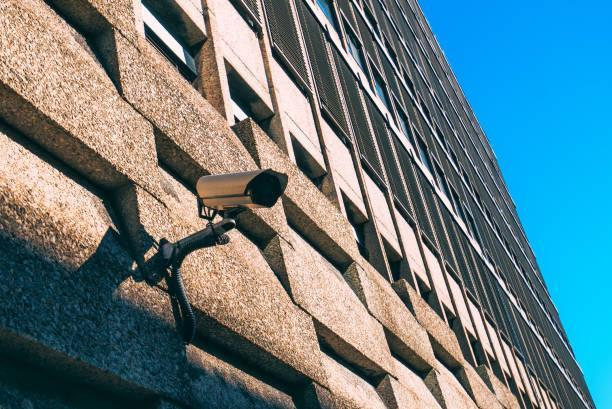camera: (191, 155, 296, 240)
